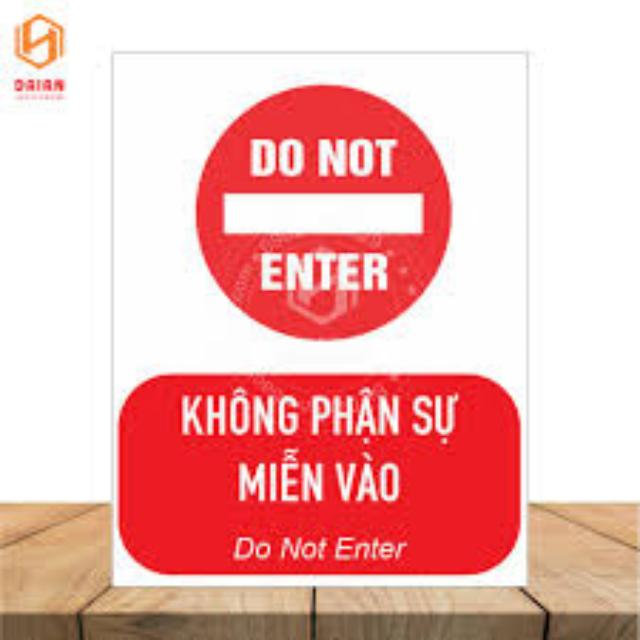no_entry: (117, 60, 523, 577)
